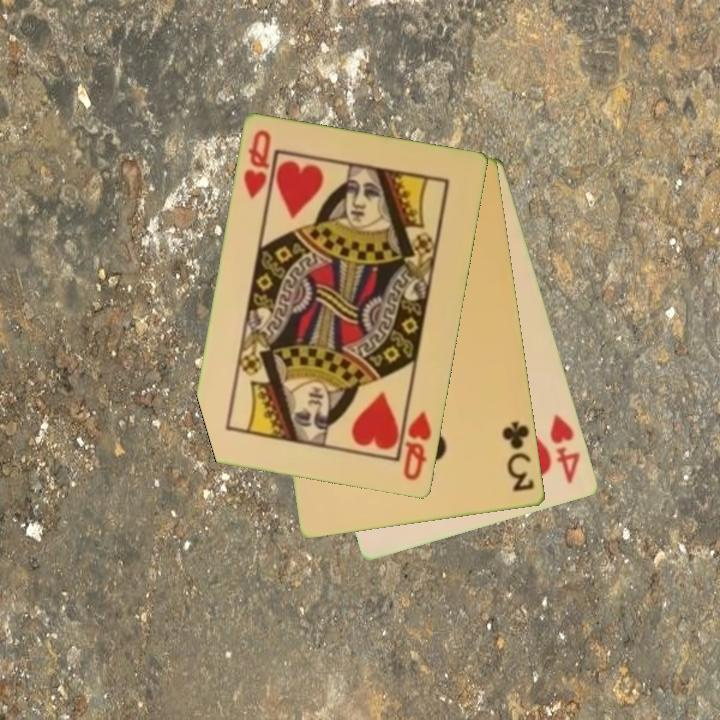3c: (499, 418, 538, 495)
4h: (547, 411, 584, 487)
Qh: (400, 407, 435, 484), (240, 127, 274, 203)
